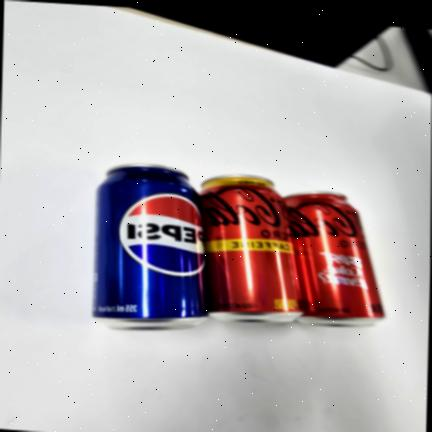can_coke_decaf: (196, 175, 302, 324)
can_coke_zero: (282, 191, 384, 325)
can_pepsi: (91, 161, 210, 333)
